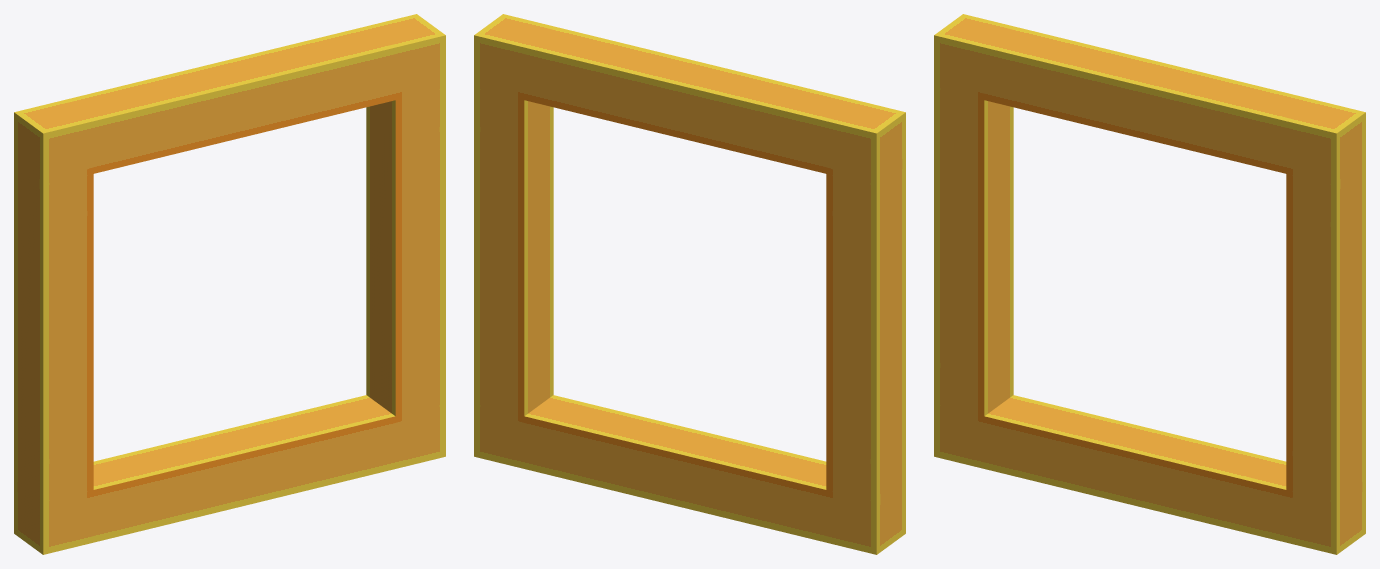
The model's file is gen_3ao.fezao.glb.
3 renders of one model, left to right at view 1: azimuth 30°, elevation 25°; view 2: azimuth 150°, elevation 25°; view 3: azimuth 330°, elevation 25°, orthographic.
Visible parts, largest first — view 1: GEN_3AO; view 2: GEN_3AO; view 3: GEN_3AO.
Part boxes in pixels (left/top/right/bottom): GEN_3AO: left=14, top=14, right=445, bottom=554; GEN_3AO: left=474, top=14, right=905, bottom=554; GEN_3AO: left=934, top=14, right=1365, bottom=554.
Size of the model in its own units: 4 by 4 by 0.5.
1 material, 1 textured.
